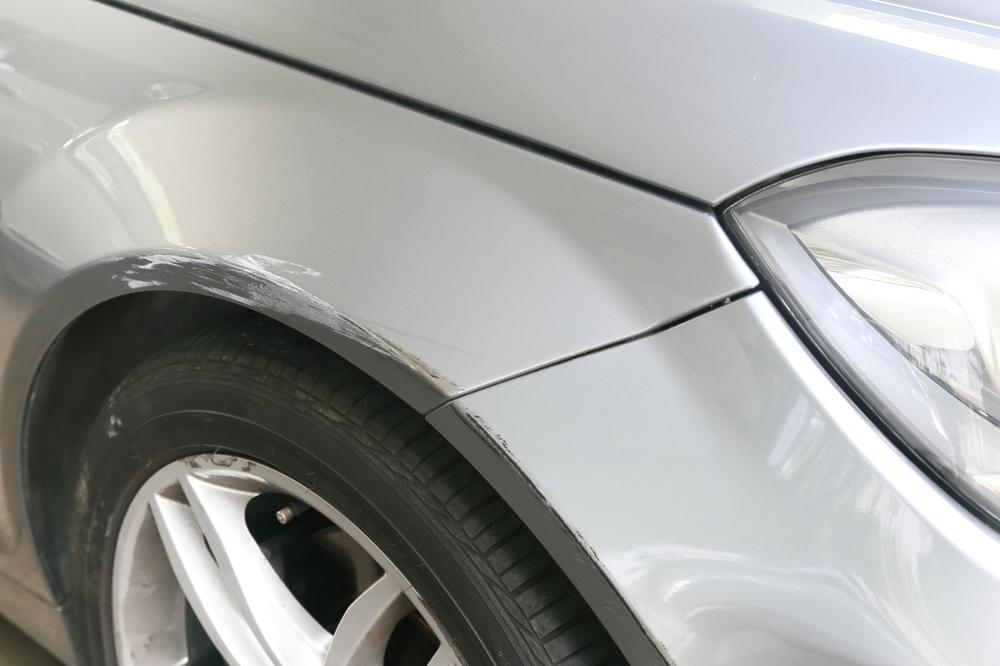scratch: (111, 246, 449, 384), (449, 402, 608, 584)
